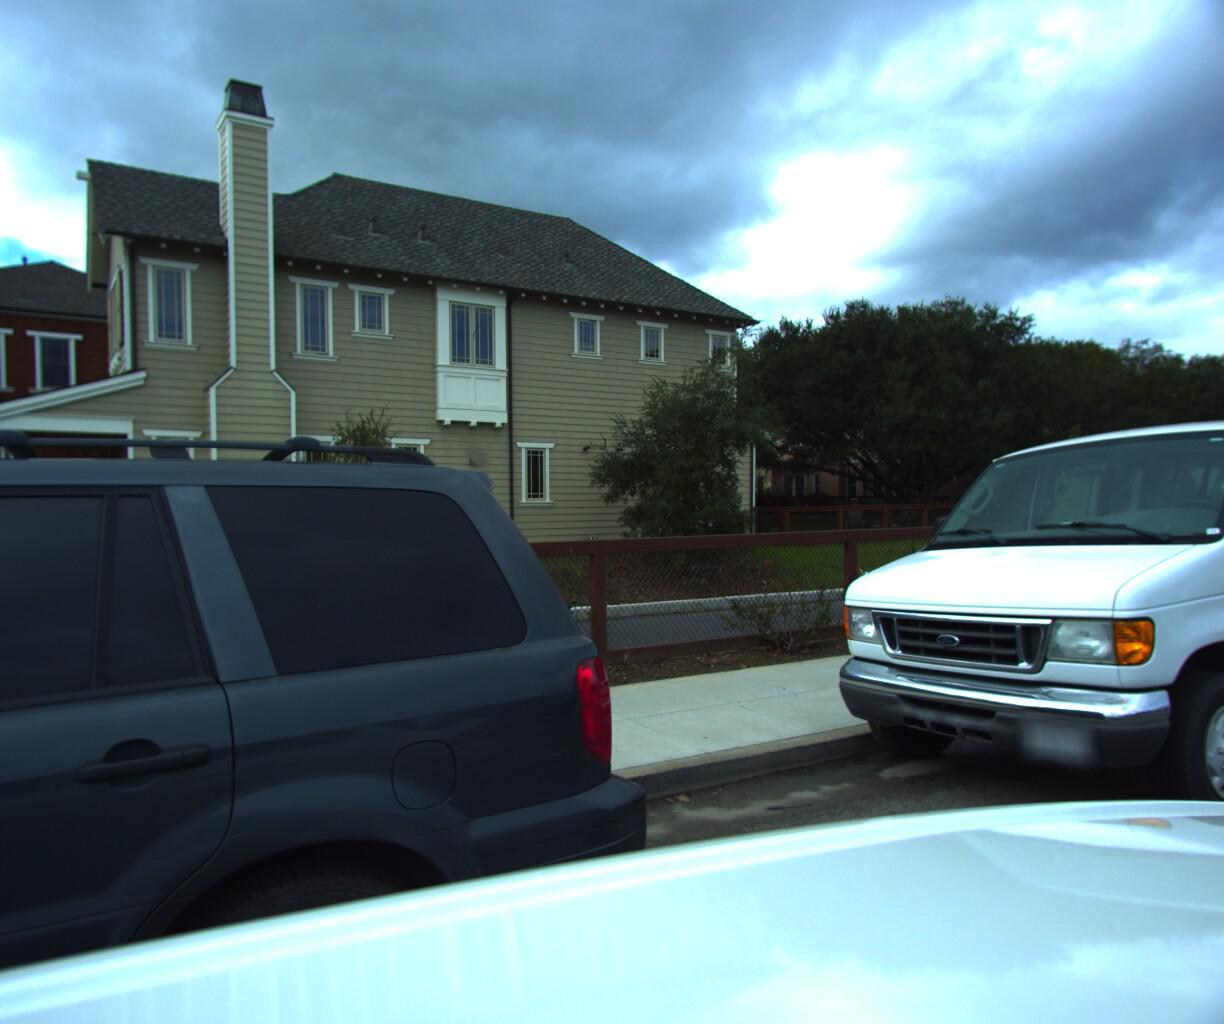car: (0, 2, 700, 1024), (812, 386, 1224, 893)
